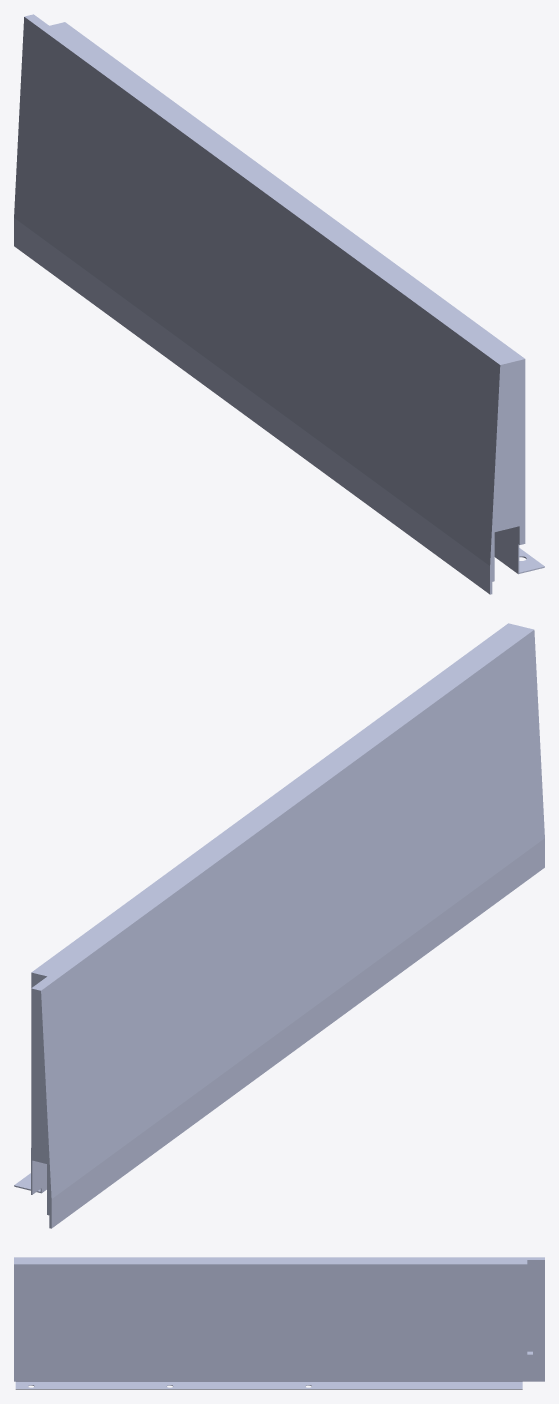
The model's file is mv-kava-K500-p.glb.
The picture shows the model from 3 angles, top to bottom: view 1: azimuth 30°, elevation 25°; view 2: azimuth 150°, elevation 25°; view 3: azimuth 270°, elevation 25°; orthographic projection. The views are drawn at different scales.
Parts seen in each view (by area): view 1: 43805459; view 2: 43805459; view 3: 43805459.
Boxes of the visible parts, <box> form: 43805459: <box>14,14,544,594</box>; 43805459: <box>14,623,544,1228</box>; 43805459: <box>14,1257,544,1389</box>.
Bounding box in the file's own units: 0.0335 × 0.129 × 0.4902.
